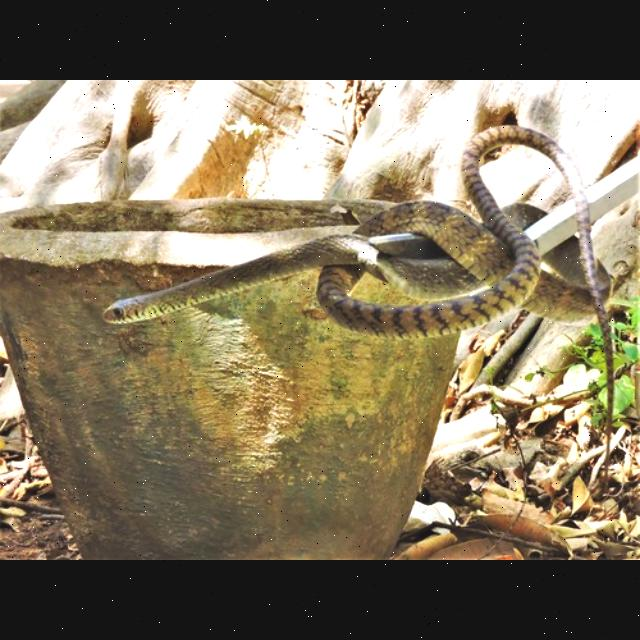snake: (98, 125, 640, 342)
